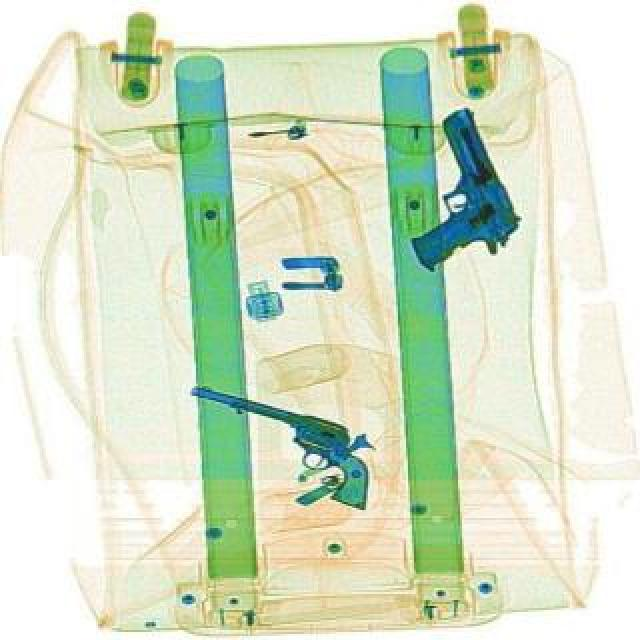gun: (364, 104, 528, 280), (166, 380, 388, 508)
